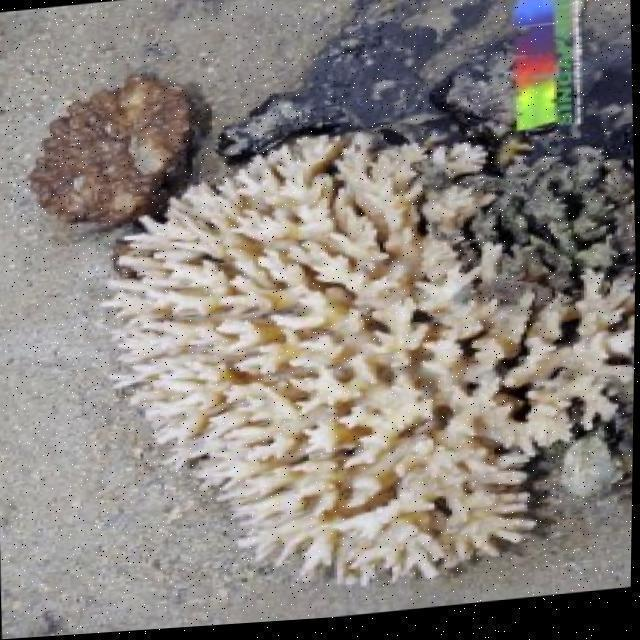Bleached Coral: (77, 121, 639, 631)
